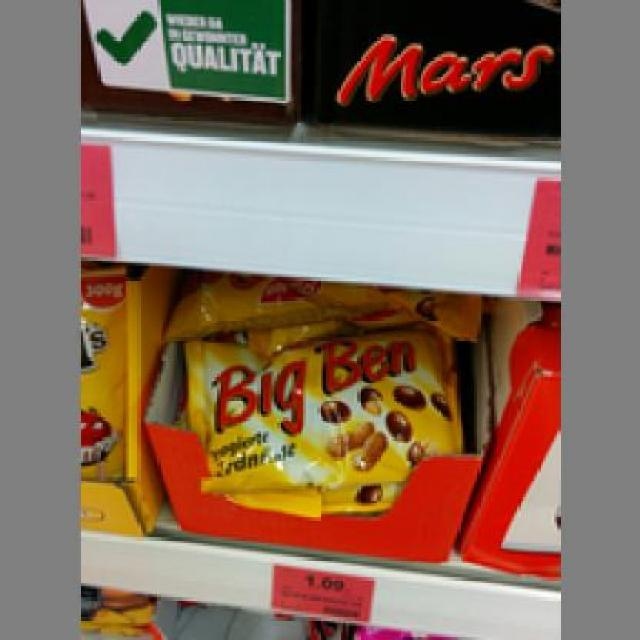Chocolate: (179, 334, 455, 492)
